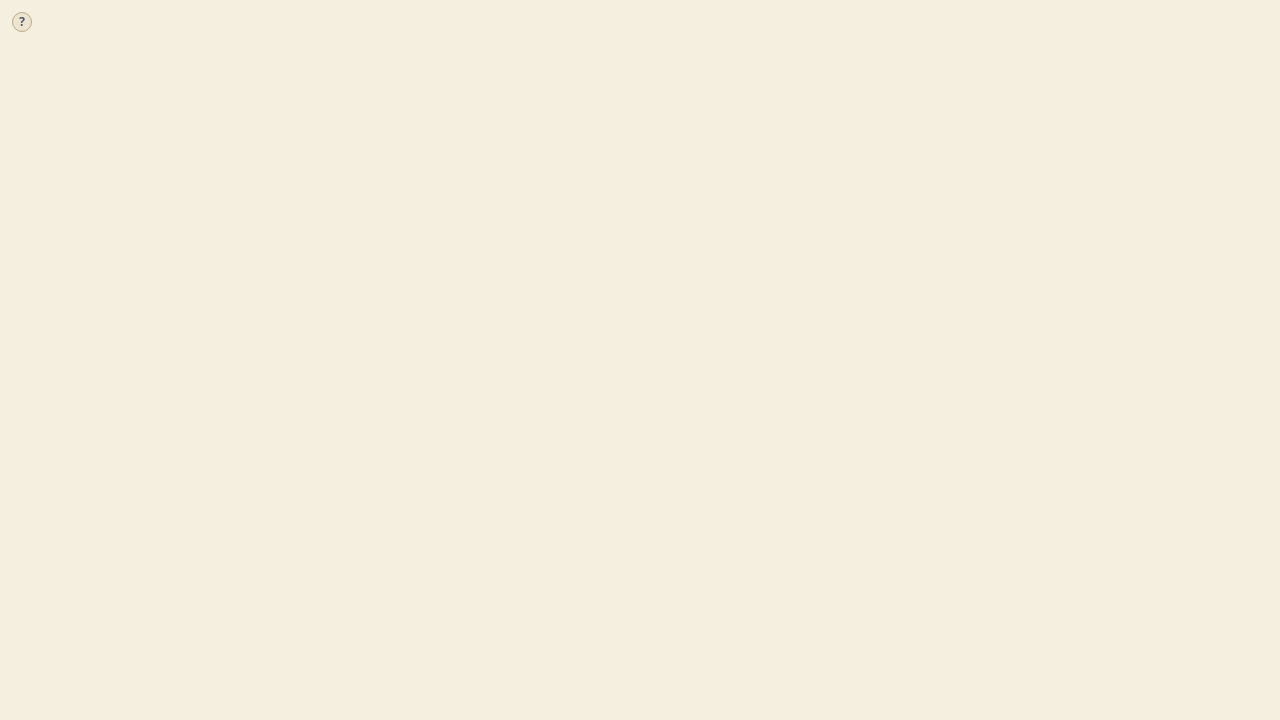
Test: HelpHint › al tocarlo muestra título y texto; "Entendido" lo cierra y devuelve el foco al botón
Click the button named "Ayuda: la pizarra" at coordinates (22, 22), box [0,0,44,44]
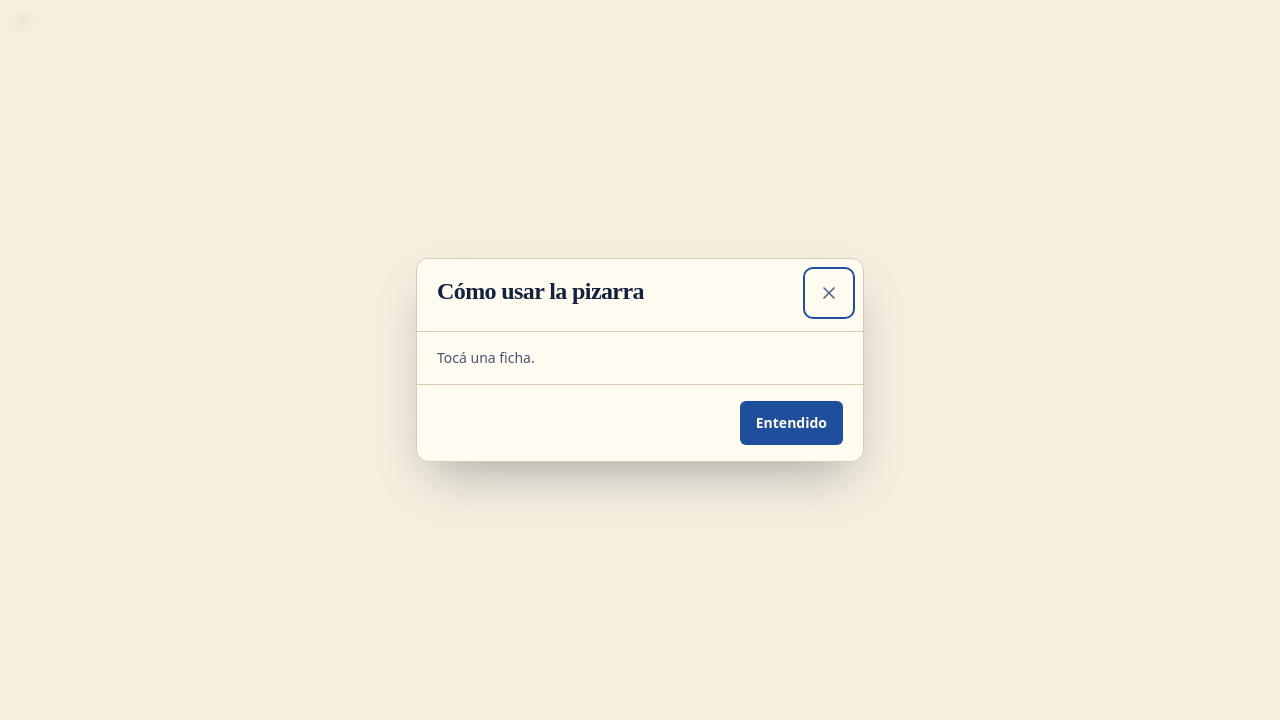
expect the dialog "Cómo usar la pizarra" is shown: met, box [416,258,864,462]
expect the text "Tocá una ficha." is shown: met, box [437,348,535,367]
Click the button "Entendido" at coordinates (791, 423), box [740,401,843,445]
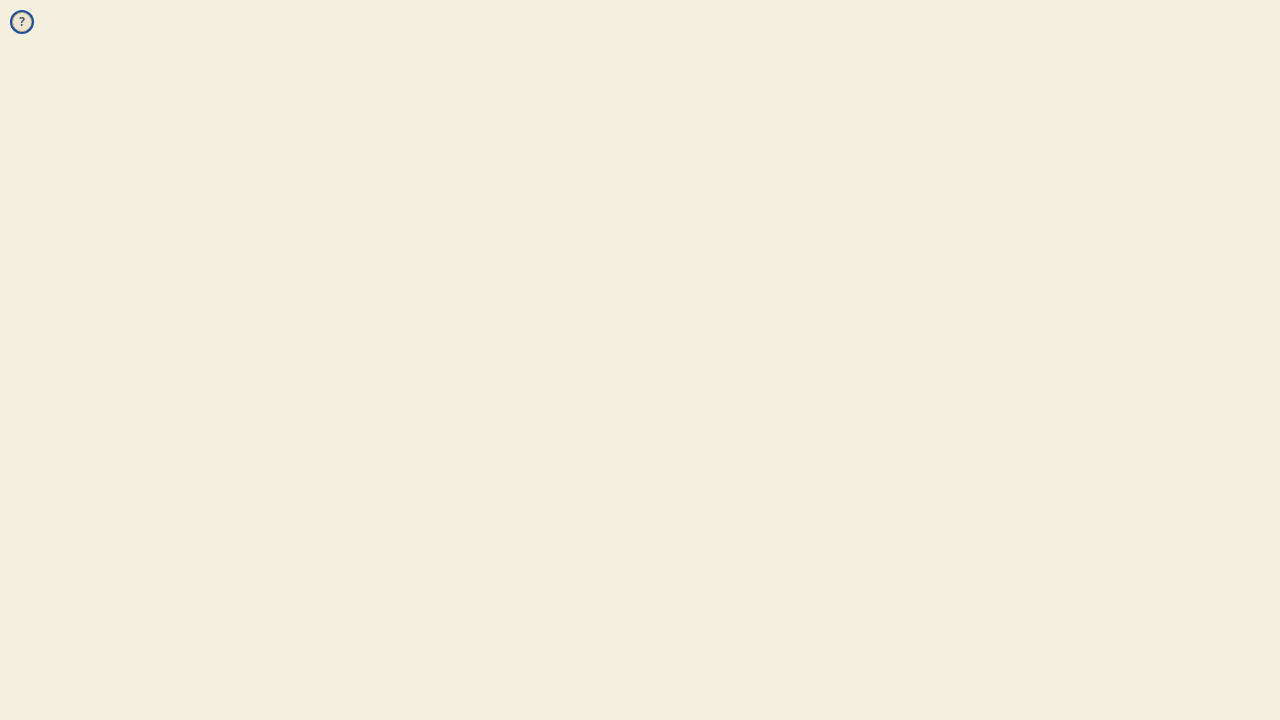
expect the dialog is gone: met
